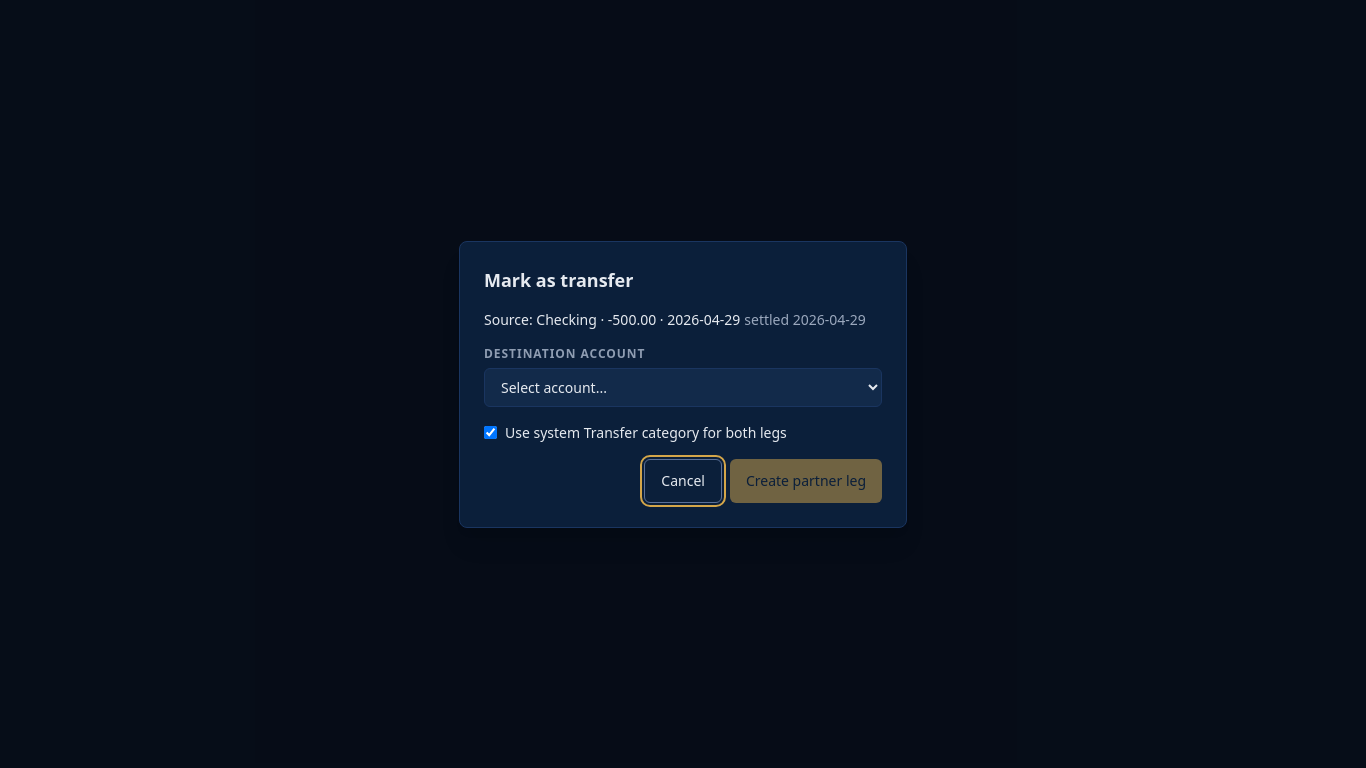
Scenario: MarkAsTransferModal › Stage 2 zero candidates: shows 'Create partner leg' as primary action
This screenshot has width=1366, height=768.
Select "Savings" in the dropdown: coordinates (683, 387) [484,368,882,406]
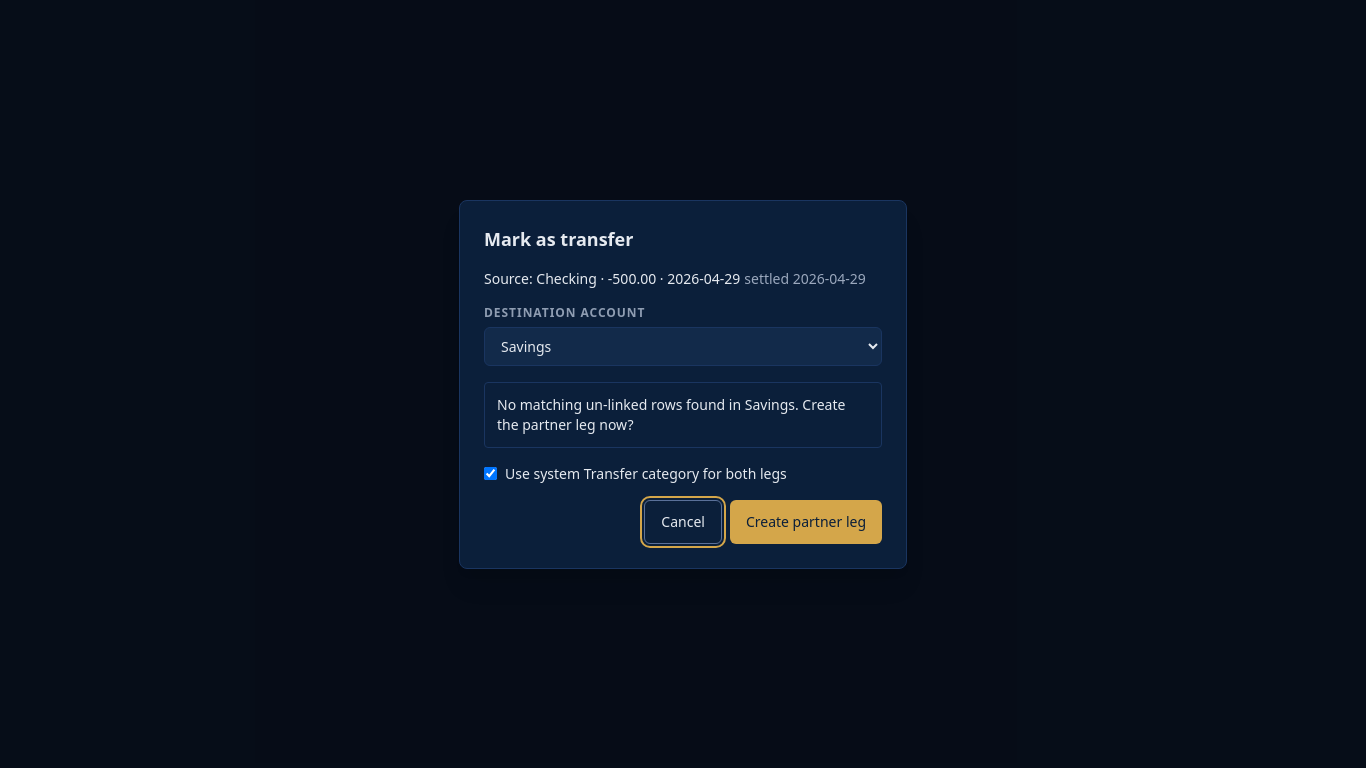
Result: the text "No matching un-linked rows" is shown at [497,394,745,414]
Result: the button "Create partner leg" is enabled at [730,500,882,544]
